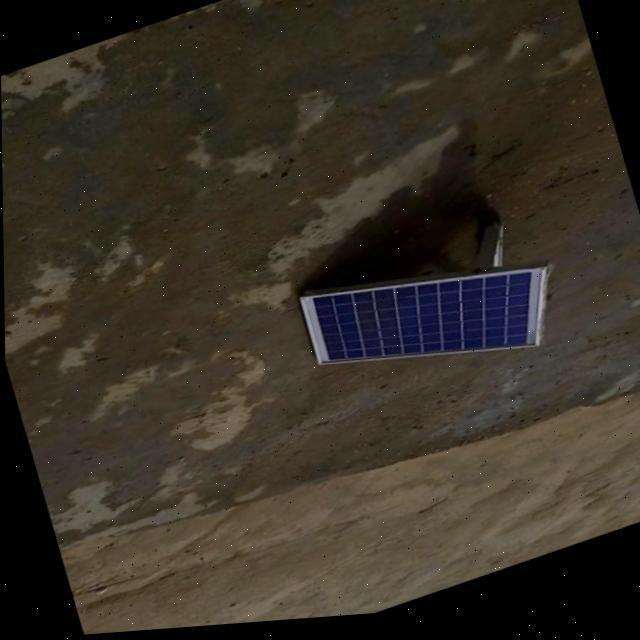Normal Solar Panel: (296, 218, 567, 420)
